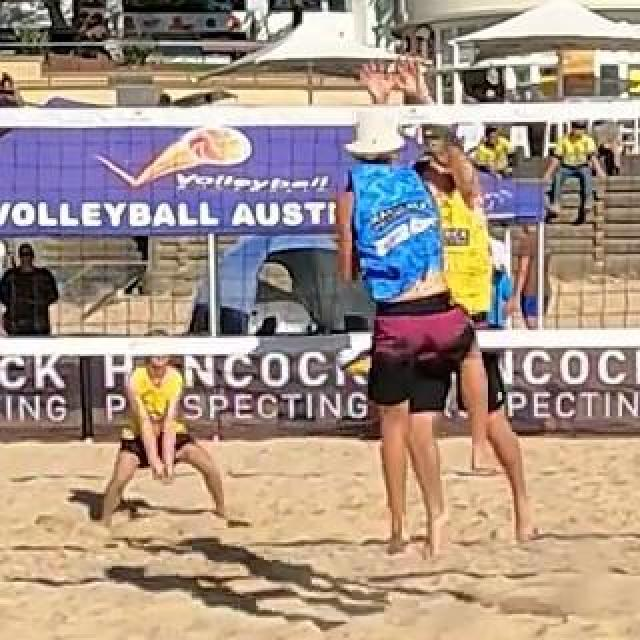volleyball: (335, 341, 373, 377)
